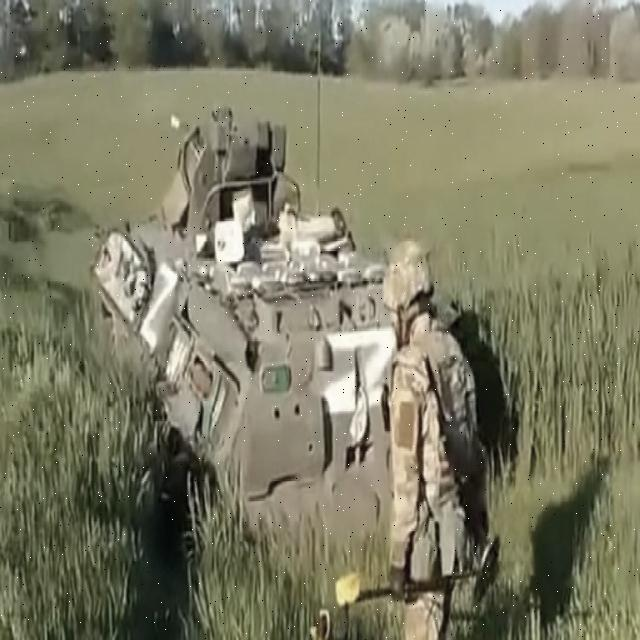APC-IFV: (80, 89, 440, 555)
